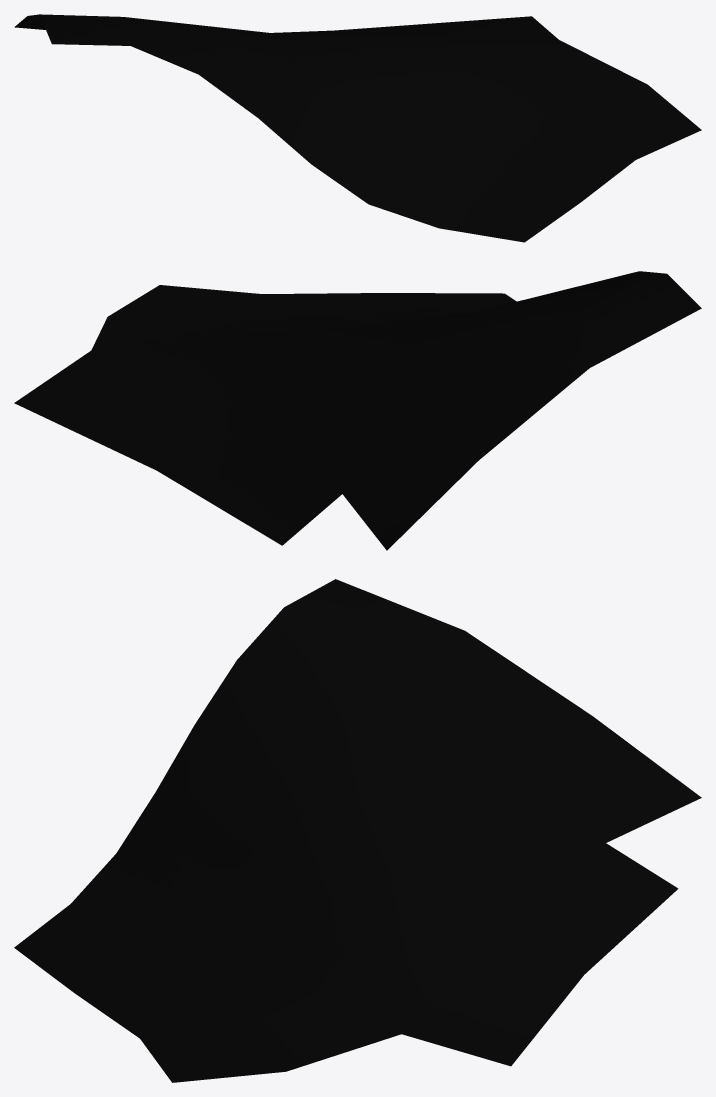
Rendered from HTOWN01_TREESHADOWS30.fbx.
3 views of the same model, one above another, from view 1: azimuth 30°, elevation 25°; view 2: azimuth 150°, elevation 25°; view 3: azimuth 270°, elevation 25° (orthographic). The views are drawn at different scales.
Parts seen in each view (by area): view 1: HTOWN01_TREESHADOWS30; view 2: HTOWN01_TREESHADOWS30; view 3: HTOWN01_TREESHADOWS30.
Part boxes in pixels (bbox=[...]): HTOWN01_TREESHADOWS30: bbox=[14, 14, 701, 242]; HTOWN01_TREESHADOWS30: bbox=[14, 271, 701, 550]; HTOWN01_TREESHADOWS30: bbox=[14, 579, 701, 1082].
Size of the model in its own units: 222112 by 64197 by 206865.
1 material, 1 textured.
